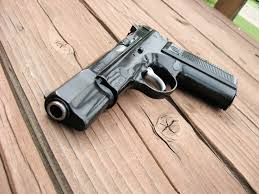gun: (43, 23, 238, 131)
